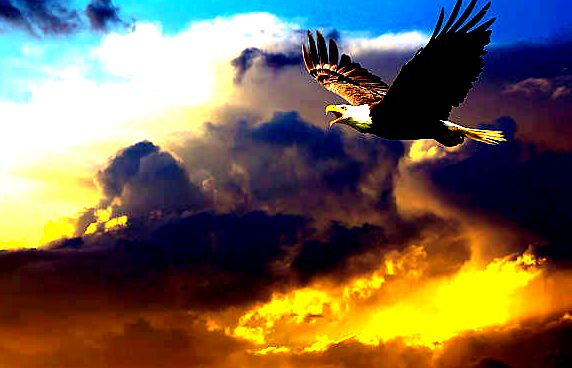Bird: (297, 2, 509, 147)
